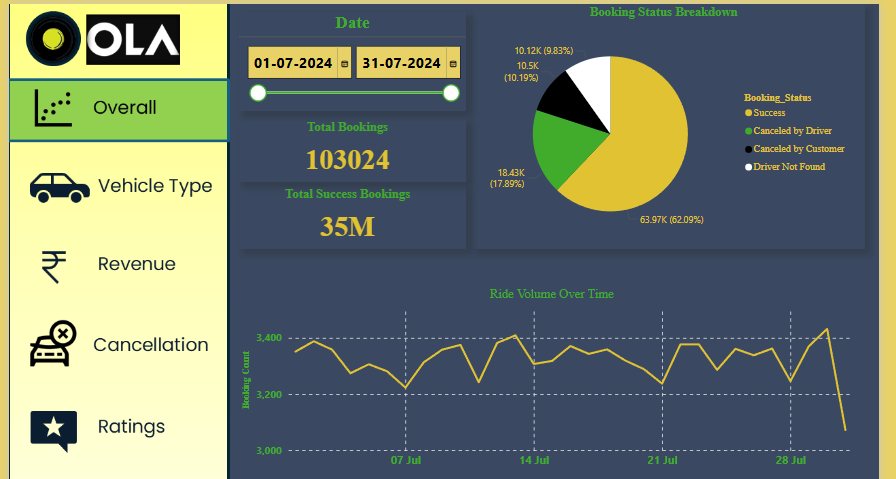

What the dashboard file says about the page in this screenshot:
{"tool":"powerbi","page":{"name":"Overall","canvas":[1280,720],"ordinal":0},"visuals":[{"type":"actionButton","box":[0,214.5,323.3,94],"z":0},{"type":"actionButton","box":[0,335,323.3,94],"z":1000},{"type":"actionButton","box":[0,574.5,323.3,94],"z":2000},{"type":"actionButton","box":[0,454,323.3,94],"z":3000},{"type":"lineChart","title":" Ride Volume Over Time","fields":{"Y":["CountNonNull(July.Booking_ID)"],"Category":["July.Date"]},"box":[338,414.4,919.8,289.5],"z":4000},{"type":"pieChart","title":" Booking Status Breakdown","fields":{"Category":["July.Booking_Status"],"Y":["CountNonNull(July.Booking_Status)"]},"box":[681.8,0,576,360],"z":5000},{"type":"slicer","title":"Date","fields":{"Values":["July.Date"]},"box":[338,11.8,333.6,145.5],"z":6000},{"type":"card","title":"Total Bookings","fields":{"Values":["Count(July.Booking_ID)"]},"box":[337.6,169.7,334.3,92.4],"z":7000},{"type":"card","title":"Total Success Bookings","fields":{"Values":["Sum(July.Booking_Value)"]},"box":[337.6,267.1,334.3,92.4],"z":8000}]}

Visuals, with their boxes on the page's 1280x720 design canvas (x1, y1, x2, y2). These are canvas units, not pixel positions in the 896x479 screenshot, which may show the page scaled, cropped or inside an application window:
actionButton: [0, 214, 323, 308]
actionButton: [0, 335, 323, 429]
actionButton: [0, 574, 323, 668]
actionButton: [0, 454, 323, 548]
" Ride Volume Over Time" lineChart: [338, 414, 1258, 704]
" Booking Status Breakdown" pieChart: [682, 0, 1258, 360]
"Date" slicer: [338, 12, 672, 157]
"Total Bookings" card: [338, 170, 672, 262]
"Total Success Bookings" card: [338, 267, 672, 360]
